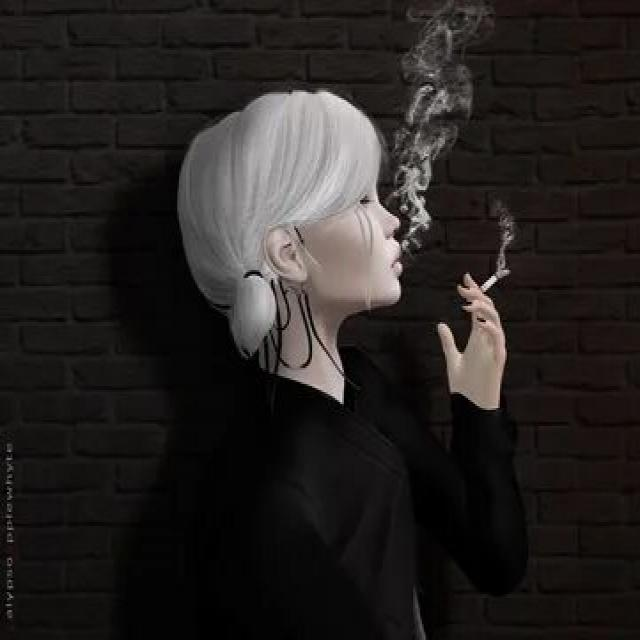smoke: (470, 266, 509, 308)
